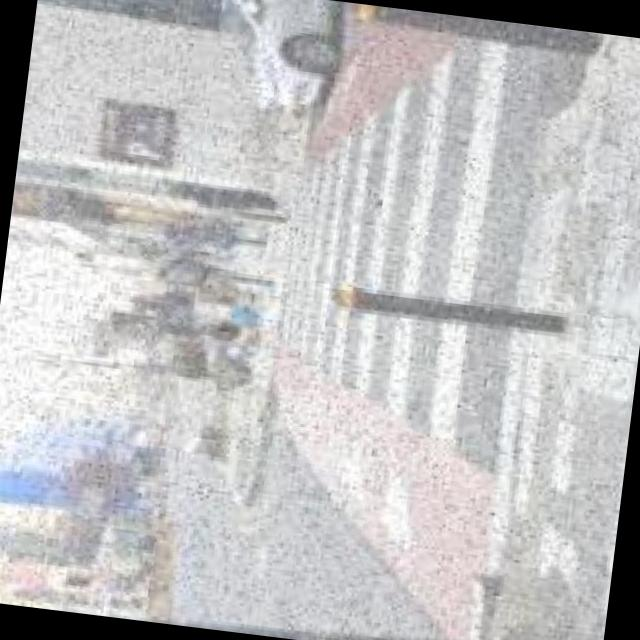zebra: (274, 10, 524, 455)
